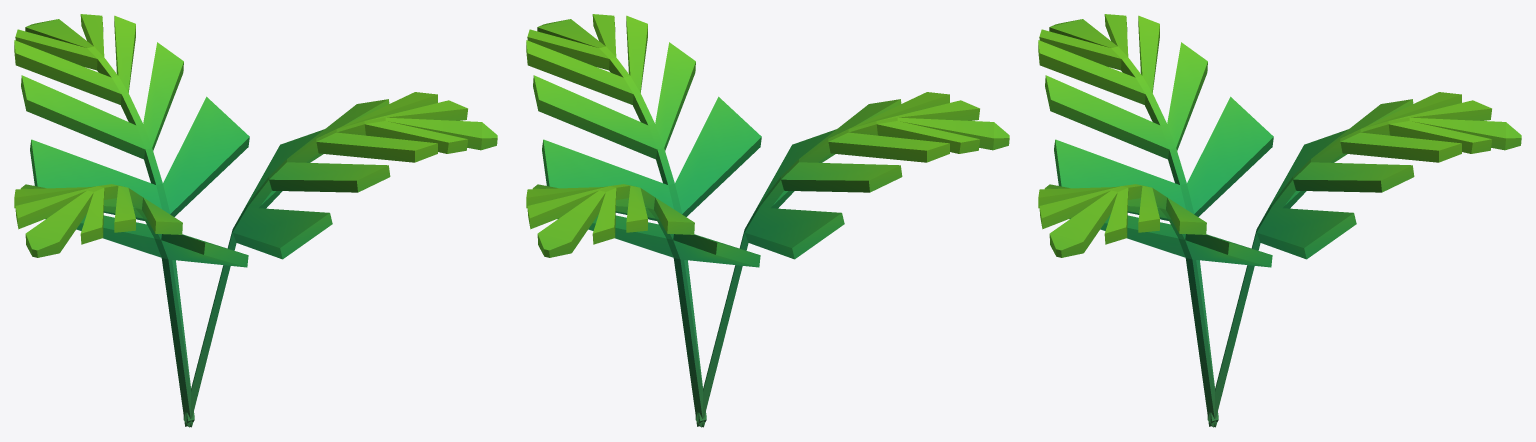
File: carrot2.glb
The picture shows the model from 3 angles, left to right: view 1: azimuth 30°, elevation 25°; view 2: azimuth 150°, elevation 25°; view 3: azimuth 270°, elevation 25°; orthographic projection.
Visible parts, largest first — view 1: Carrot2; view 2: Carrot2; view 3: Carrot2.
Part boxes in pixels (x1,y1,x2,y2): Carrot2: [14, 14, 497, 427]; Carrot2: [526, 14, 1009, 427]; Carrot2: [1038, 14, 1521, 427].
Size of the model in its own units: 0.8327 by 0.5251 by 0.7483.
Materials: 1 (1 with a texture image).
